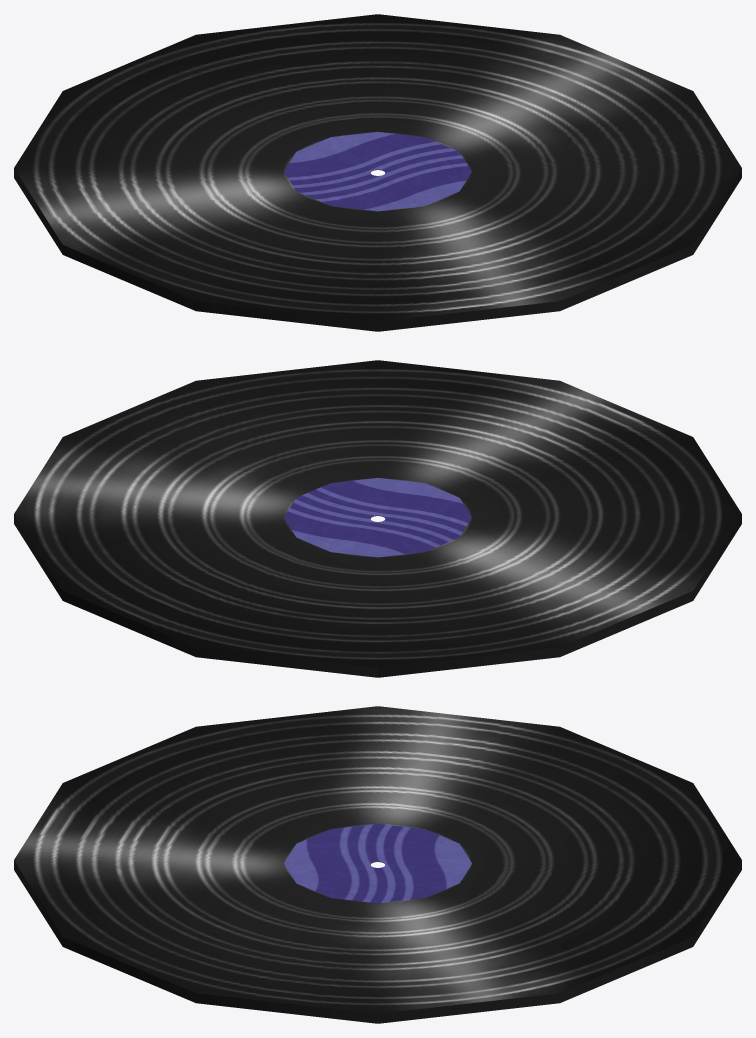
File: Vinyl_01.FBX
3 renders of one model, top to bottom at view 1: azimuth 30°, elevation 25°; view 2: azimuth 150°, elevation 25°; view 3: azimuth 270°, elevation 25°, orthographic.
Parts seen in each view (by area): view 1: Vinyl; view 2: Vinyl; view 3: Vinyl.
Part boxes in pixels (x1,y1,x2,y2): Vinyl: (14, 14, 741, 331); Vinyl: (14, 360, 741, 677); Vinyl: (14, 706, 741, 1023).
Bounding box in the file's own units: 147 × 2.23 × 147.
